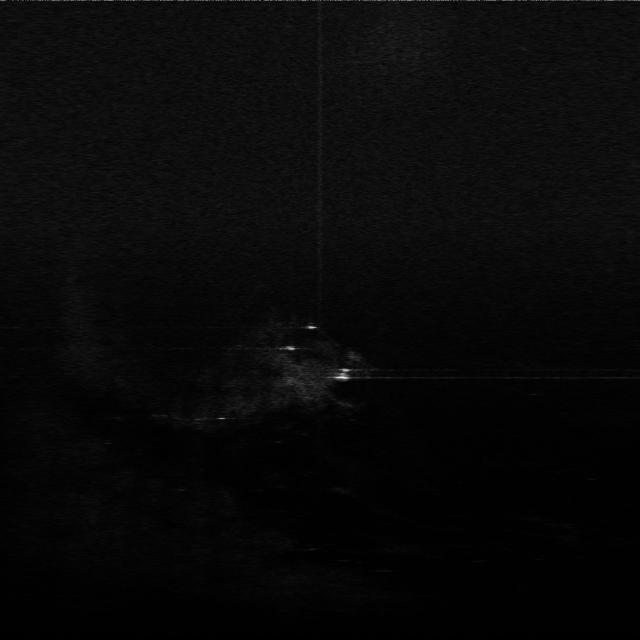rov: (332, 365, 356, 381)
